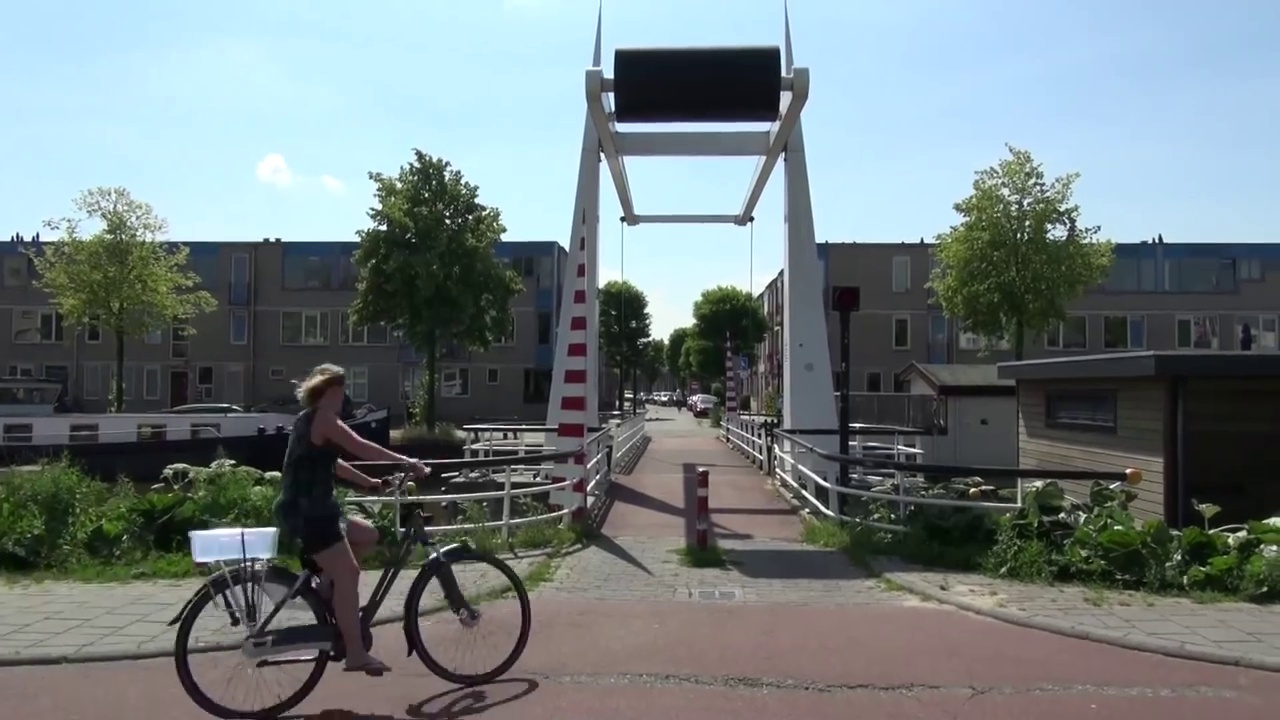cyclist_side: (164, 359, 555, 700)
